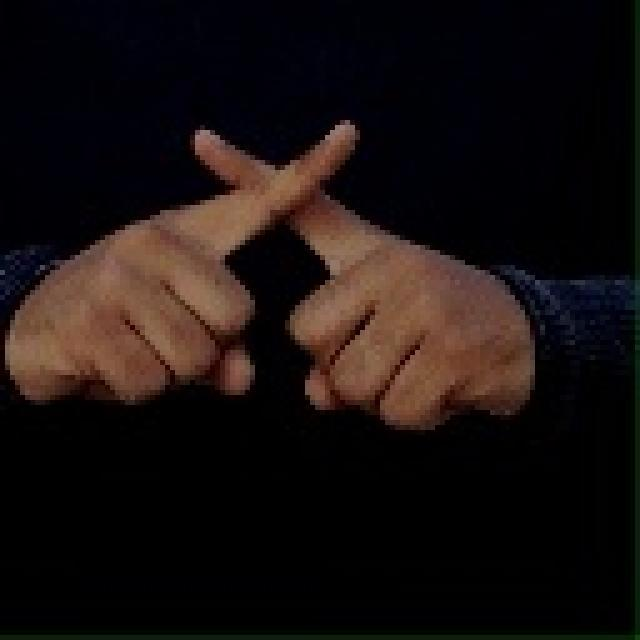X: (20, 120, 540, 447)
